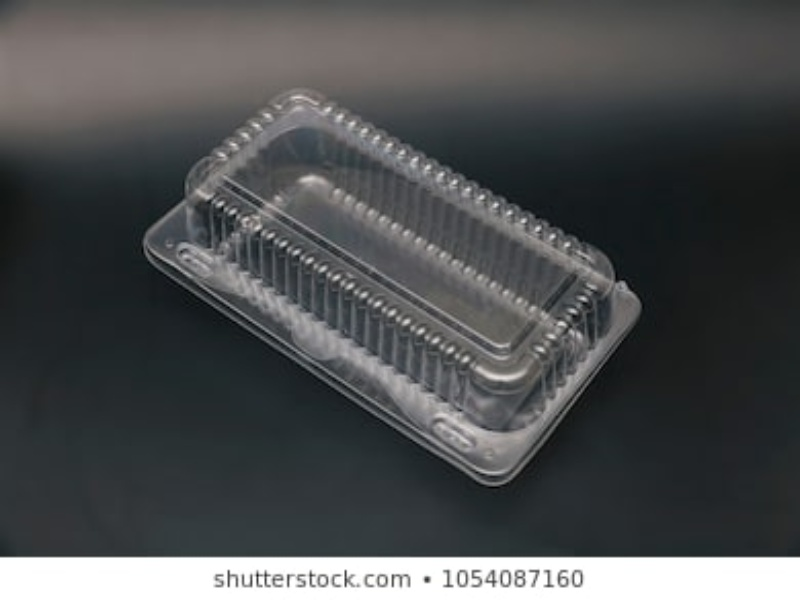plastic-container: (135, 80, 657, 492)
